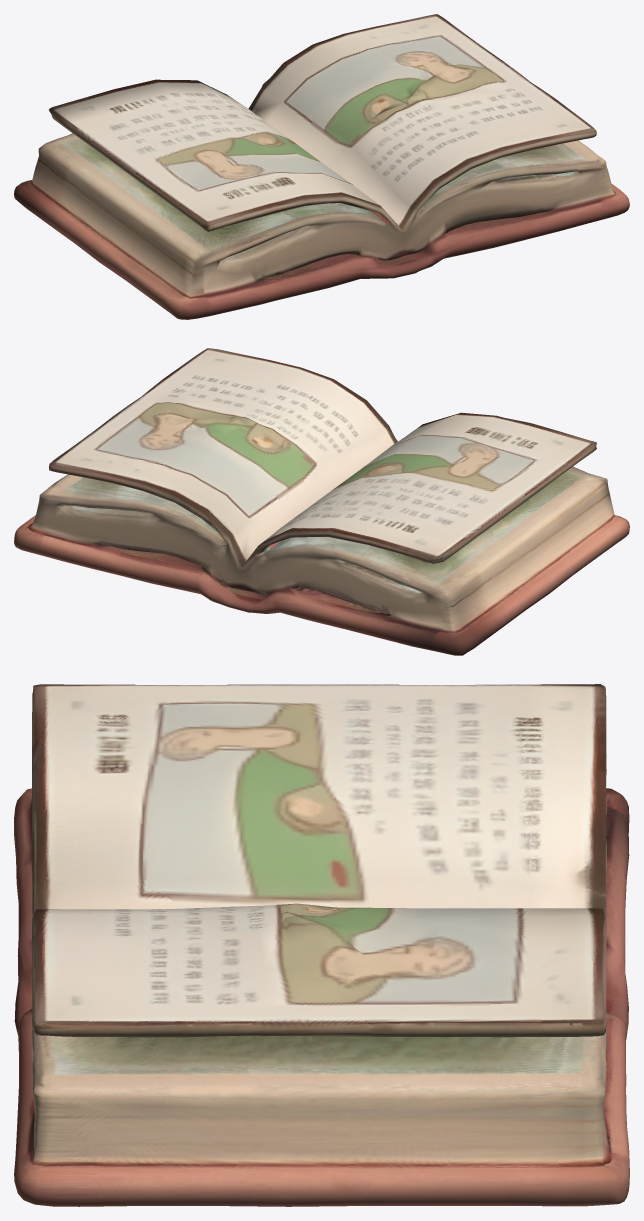
Rendered from Open_Book.glb.
3 views of the same model, one above another, from view 1: azimuth 30°, elevation 25°; view 2: azimuth 150°, elevation 25°; view 3: azimuth 270°, elevation 25° (orthographic). The views are drawn at different scales.
Bounding box in the file's own units: 1.91 × 0.4178 × 1.25.
1 material, 1 textured.
